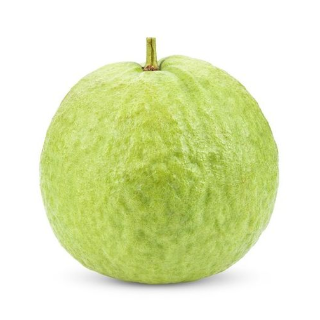oi: (39, 56, 280, 281)
